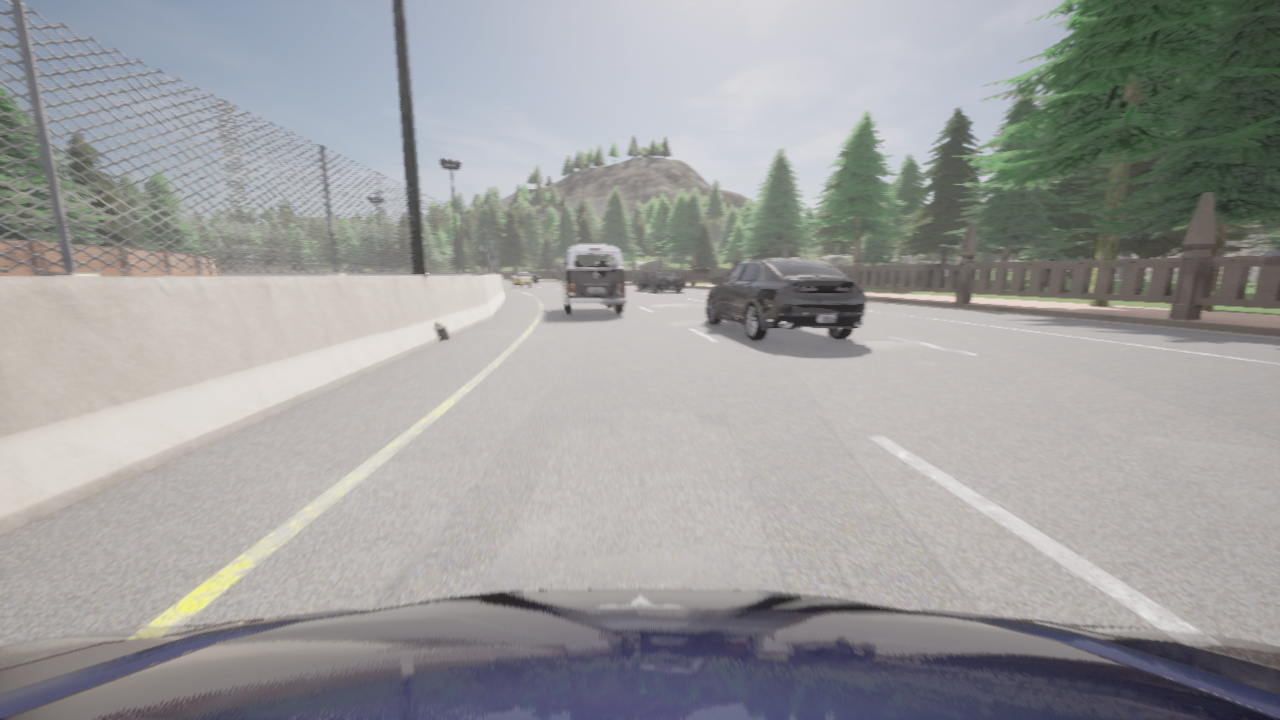cyclist: (0, 588, 1279, 719), (706, 257, 865, 340), (557, 244, 625, 314), (636, 272, 685, 292), (511, 271, 536, 284), (513, 272, 531, 288), (533, 272, 539, 282)
